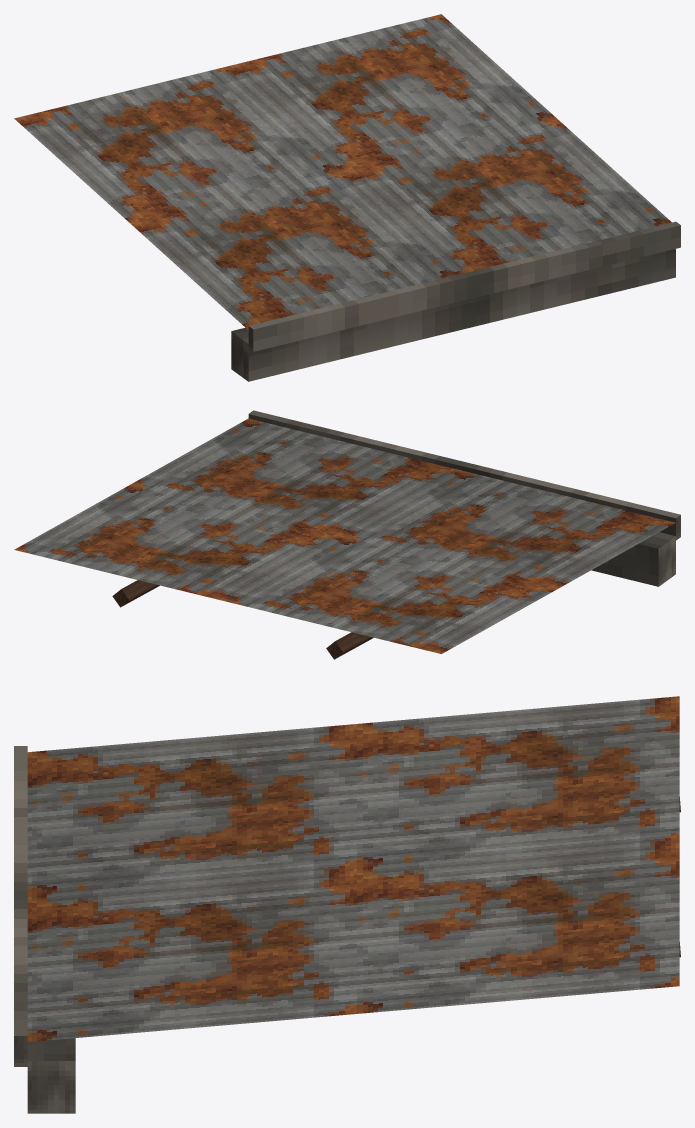
The model's file is awning.glb.
3 views of the same model, one above another, from view 1: azimuth 30°, elevation 25°; view 2: azimuth 150°, elevation 25°; view 3: azimuth 270°, elevation 25° (orthographic). The views are drawn at different scales.
Parts seen in each view (by area): view 1: awning; view 2: awning; view 3: awning.
Part boxes in pixels (x1,y1,x2,y2): awning: [14, 14, 680, 381]; awning: [14, 410, 680, 659]; awning: [14, 696, 680, 1113].
Size of the model in its own units: 2 by 0.41 by 1.94.
1 material, 1 textured.
